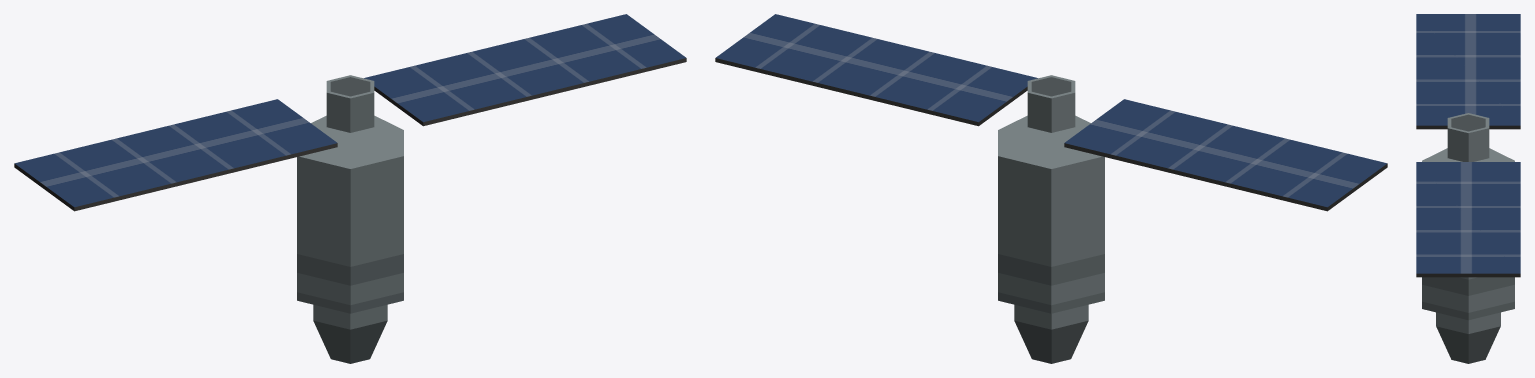
File: SM_Veh_Satellite_06.fbx
3 views of the same model, side by side, from view 1: azimuth 30°, elevation 25°; view 2: azimuth 150°, elevation 25°; view 3: azimuth 270°, elevation 25° (orthographic). The views are drawn at different scales.
Parts seen in each view (by area): view 1: SM_Veh_Satellite_06; view 2: SM_Veh_Satellite_06; view 3: SM_Veh_Satellite_06.
Part boxes in pixels (x1,y1,x2,y2): SM_Veh_Satellite_06: (14,14,686,363); SM_Veh_Satellite_06: (715,14,1387,363); SM_Veh_Satellite_06: (1416,14,1520,363).
Size of the model in its own units: 5.89 by 2.46 by 1.
